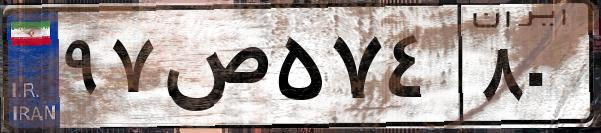0: (525, 38, 570, 115)
4: (385, 28, 445, 110)
5: (270, 28, 330, 110)
7: (330, 28, 385, 110), (110, 28, 158, 98)
8: (475, 38, 525, 113)
9: (57, 26, 110, 100)
ص: (158, 20, 270, 120)
